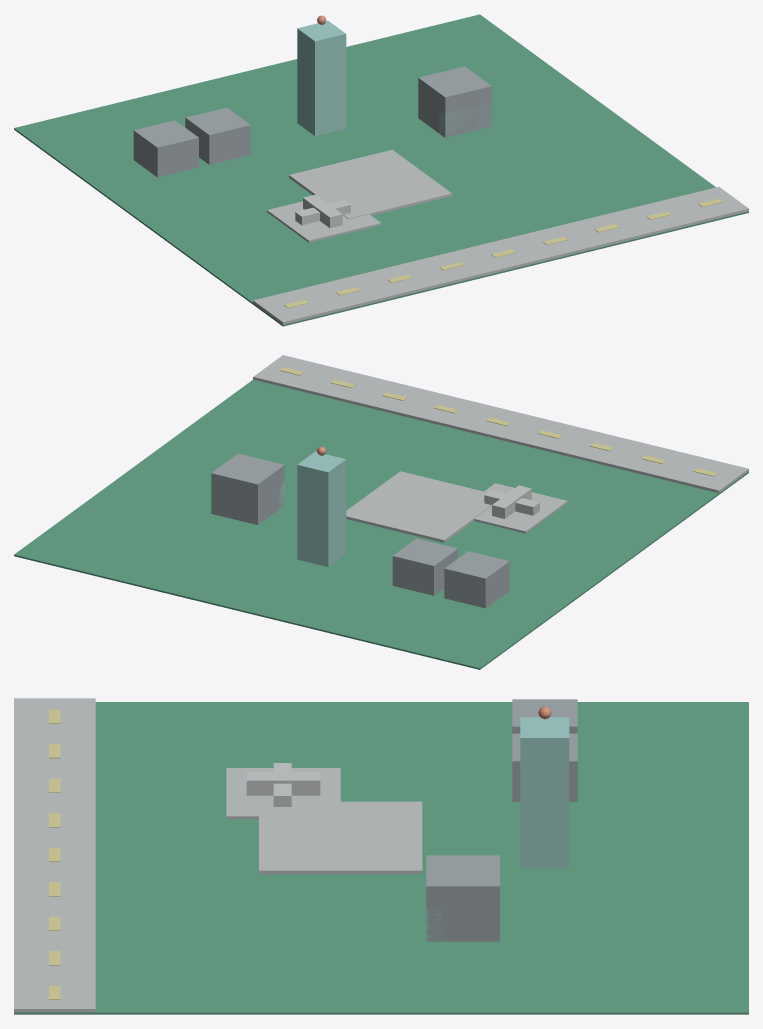
Rendered from stage_06.glb.
3 views of the same model, one above another, from view 1: azimuth 30°, elevation 25°; view 2: azimuth 150°, elevation 25°; view 3: azimuth 270°, elevation 25° (orthographic). The views are drawn at different scales.
Visible parts, largest first — view 1: geometry_0; view 2: geometry_0; view 3: geometry_0.
Part boxes in pixels (x1,y1,x2,y2): geometry_0: (14, 14, 748, 326); geometry_0: (14, 355, 748, 669); geometry_0: (14, 698, 748, 1014).
Bounding box in the file's own units: 9 × 2.06 × 9.
